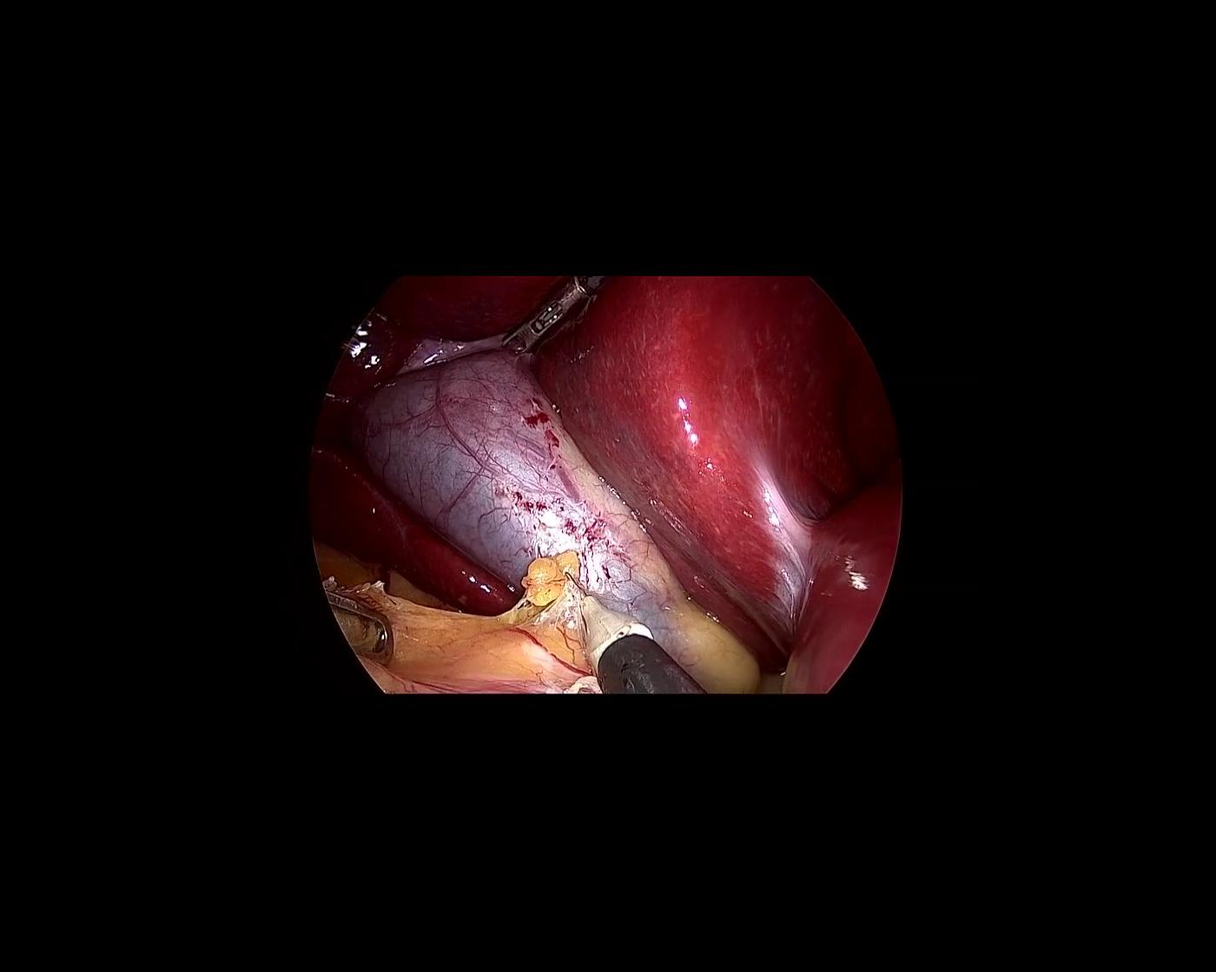Cautery: (528, 554, 702, 740)
Forceps: (495, 254, 612, 369), (303, 585, 412, 673)
Gallbladder: (334, 298, 811, 772)
Liver: (311, 278, 898, 678)
